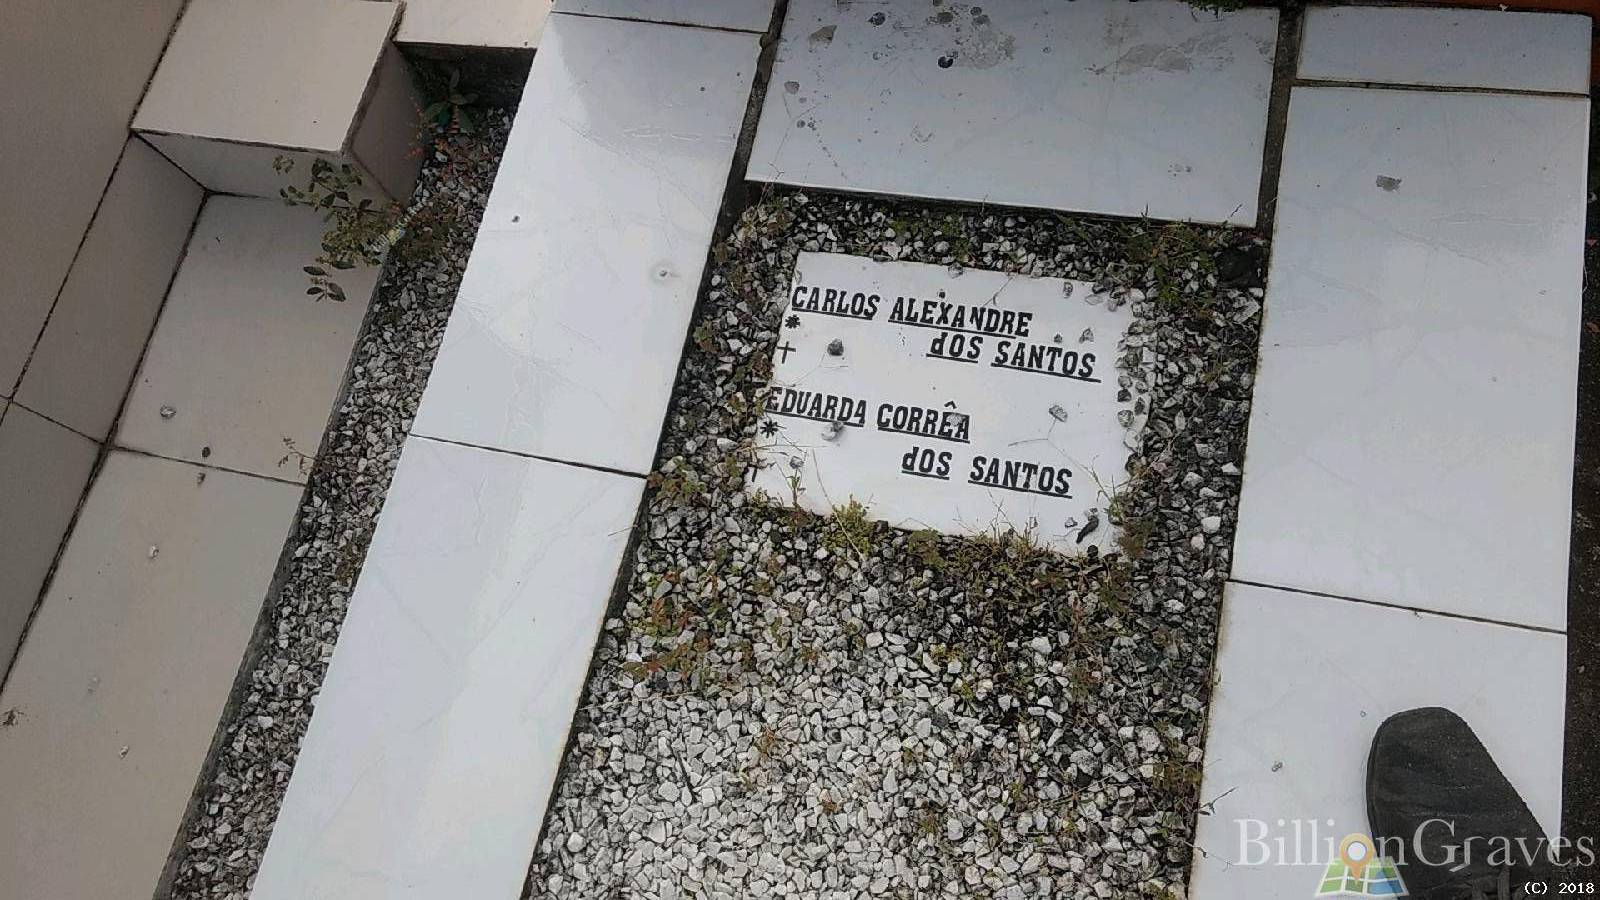flat: (742, 241, 1159, 573)
